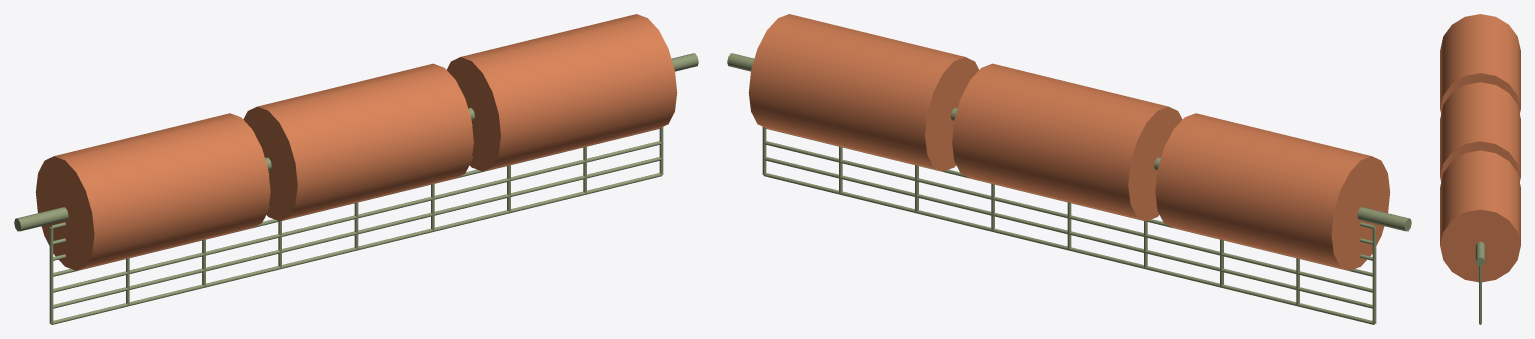
Rendered from flooded-and-coastal-survival-debris-boom-4ad6aa28__20063.glb.
3 renders of one model, left to right at view 1: azimuth 30°, elevation 25°; view 2: azimuth 150°, elevation 25°; view 3: azimuth 270°, elevation 25°, orthographic. The views are drawn at different scales.
Visible parts, largest first — view 1: debris-boom; view 2: debris-boom; view 3: debris-boom.
Part boxes in pixels (x1,y1,x2,y2): debris-boom: (14,14,698,324); debris-boom: (727,14,1411,324); debris-boom: (1440,14,1520,324).
Bounding box in the file's own units: 2 × 0.455 × 0.3.
